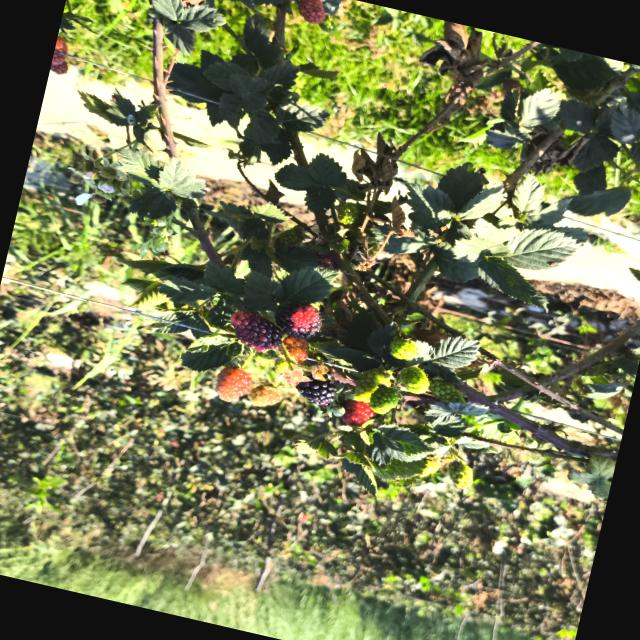maduro: (295, 378, 337, 406)
marron: (230, 311, 282, 352), (275, 304, 320, 338)
naranja: (215, 367, 252, 401), (341, 400, 374, 425), (247, 385, 282, 406), (282, 336, 308, 362)
verde: (354, 368, 391, 402), (369, 386, 401, 414), (429, 380, 466, 402), (399, 367, 429, 393), (448, 462, 473, 488), (390, 337, 416, 360)
